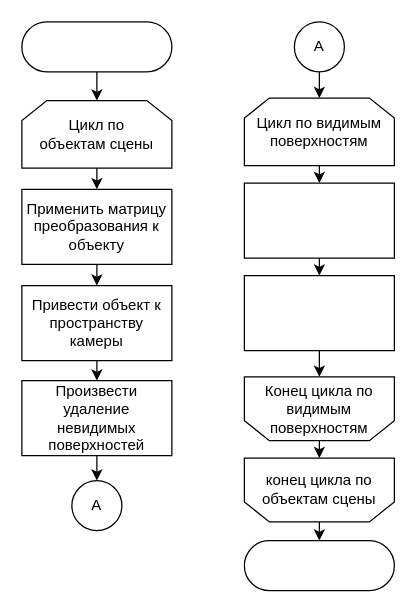
Some shapes in this 416 by 613 pixel diagram are drawn without their labels. The shapes that lost their labels are listed below. From the top down, each one's centre as x and y in pixels, then its label:
At [96,46]: "Начало".
At [318,220]: "Произвести отсечение по пирамиде видимости".
At [318,312]: "Растеризовать полигон по алгоритму Z-буфера".
At [318,565]: "Конец".
